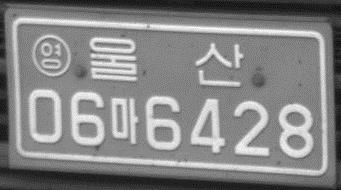0: (27, 87, 63, 144)
2: (232, 98, 271, 157)
4: (189, 97, 227, 155)
6: (68, 90, 106, 147), (144, 94, 182, 151)
8: (277, 101, 315, 160)
마: (109, 96, 140, 147)
영: (31, 32, 71, 78)
울산_D: (85, 35, 245, 90)
